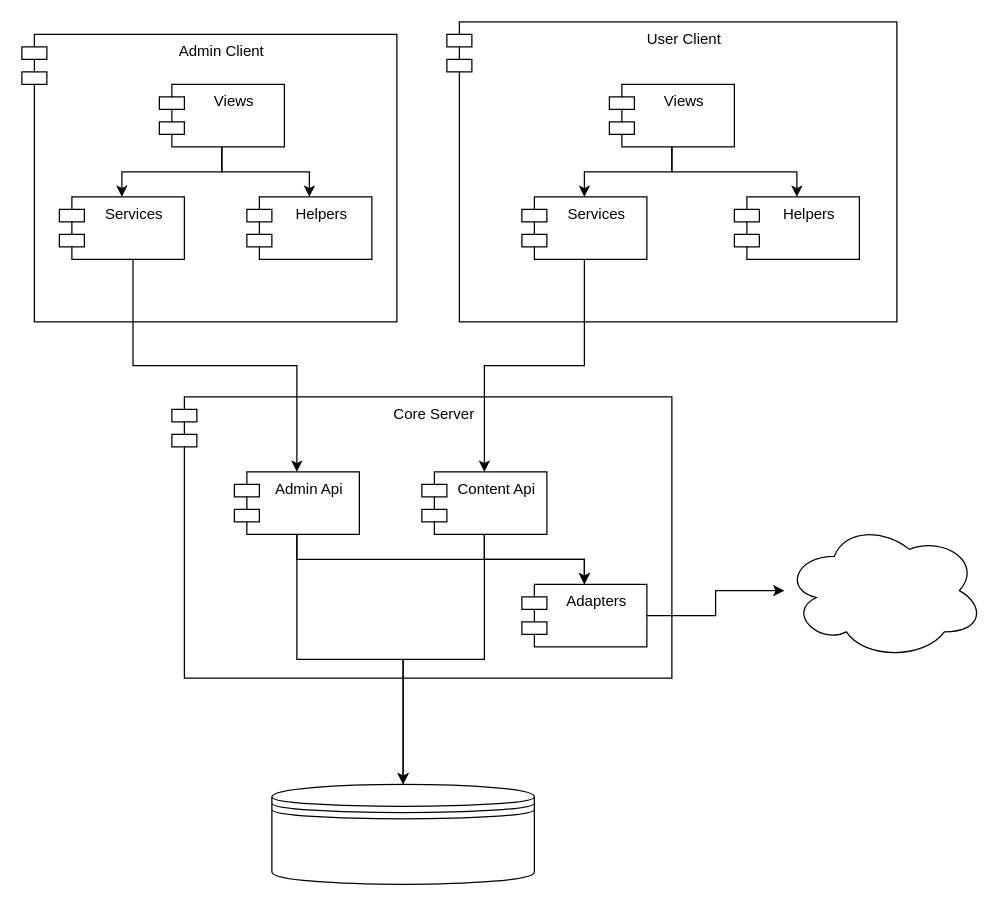
Image size: 1006x906. Some labels were removed from this diagram. Each missing label, with the centre of its shape:
"DB" belongs at point 402,833.
"Plugins" belongs at point 883,590.
